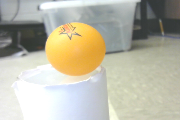PingPongBall: (46, 23, 105, 76)
